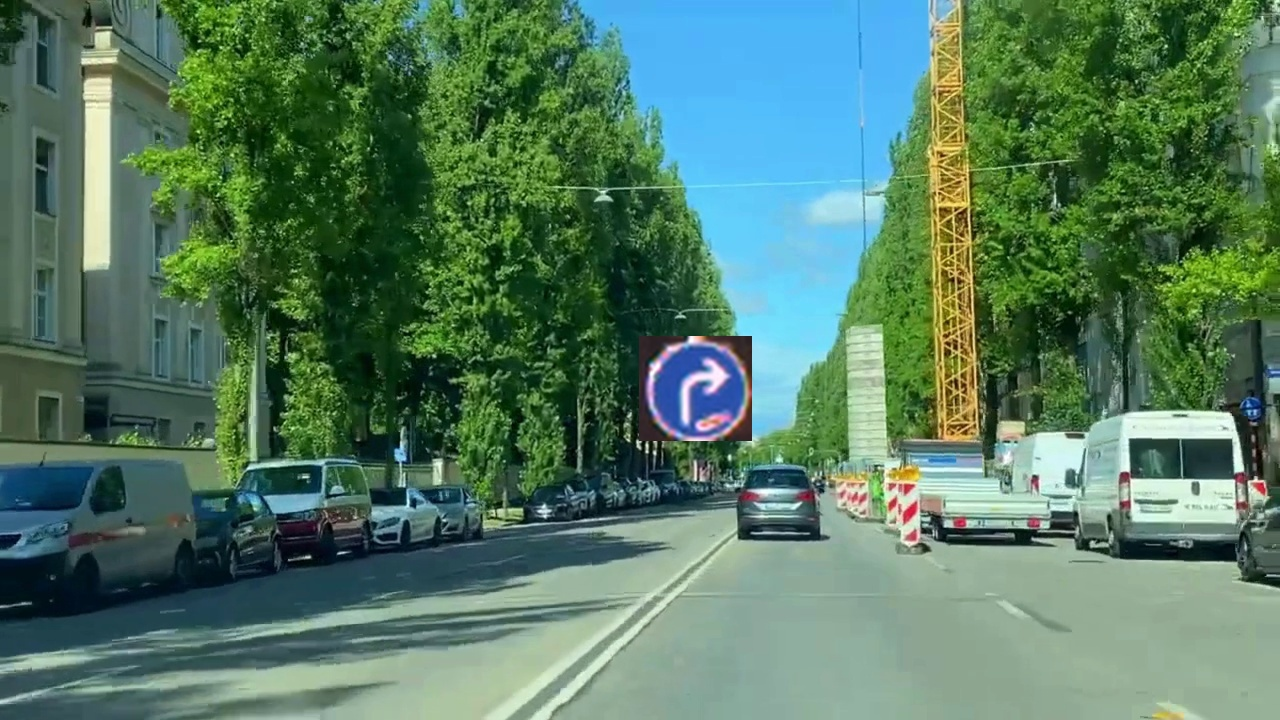Turn right: (639, 336, 752, 441)
